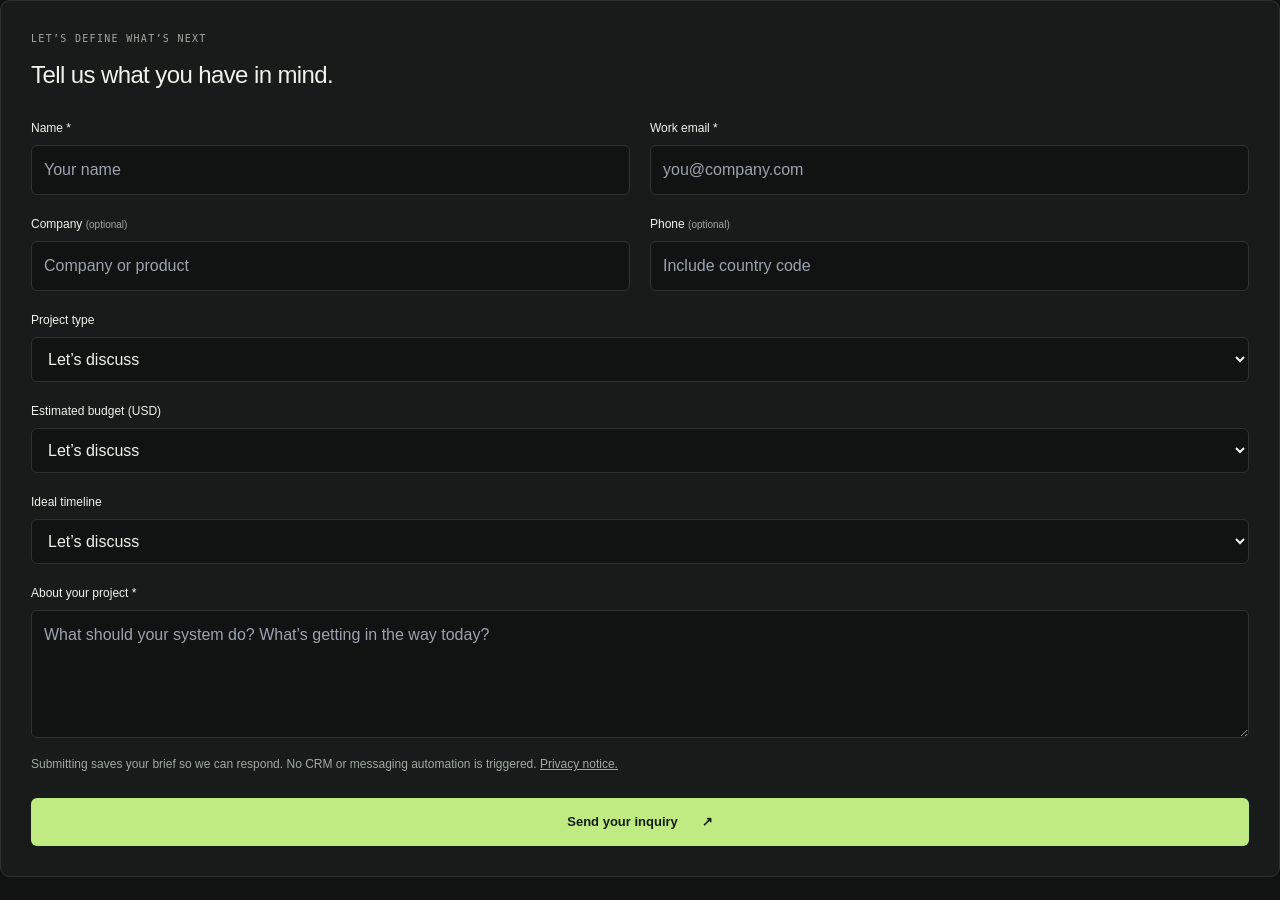
Scenario: retains the inquiry when the server fails
The image size is (1280, 900).
Type "Alex Example" into the field labelled "Name *" at (330,170), box left=31, top=145, right=630, bottom=195
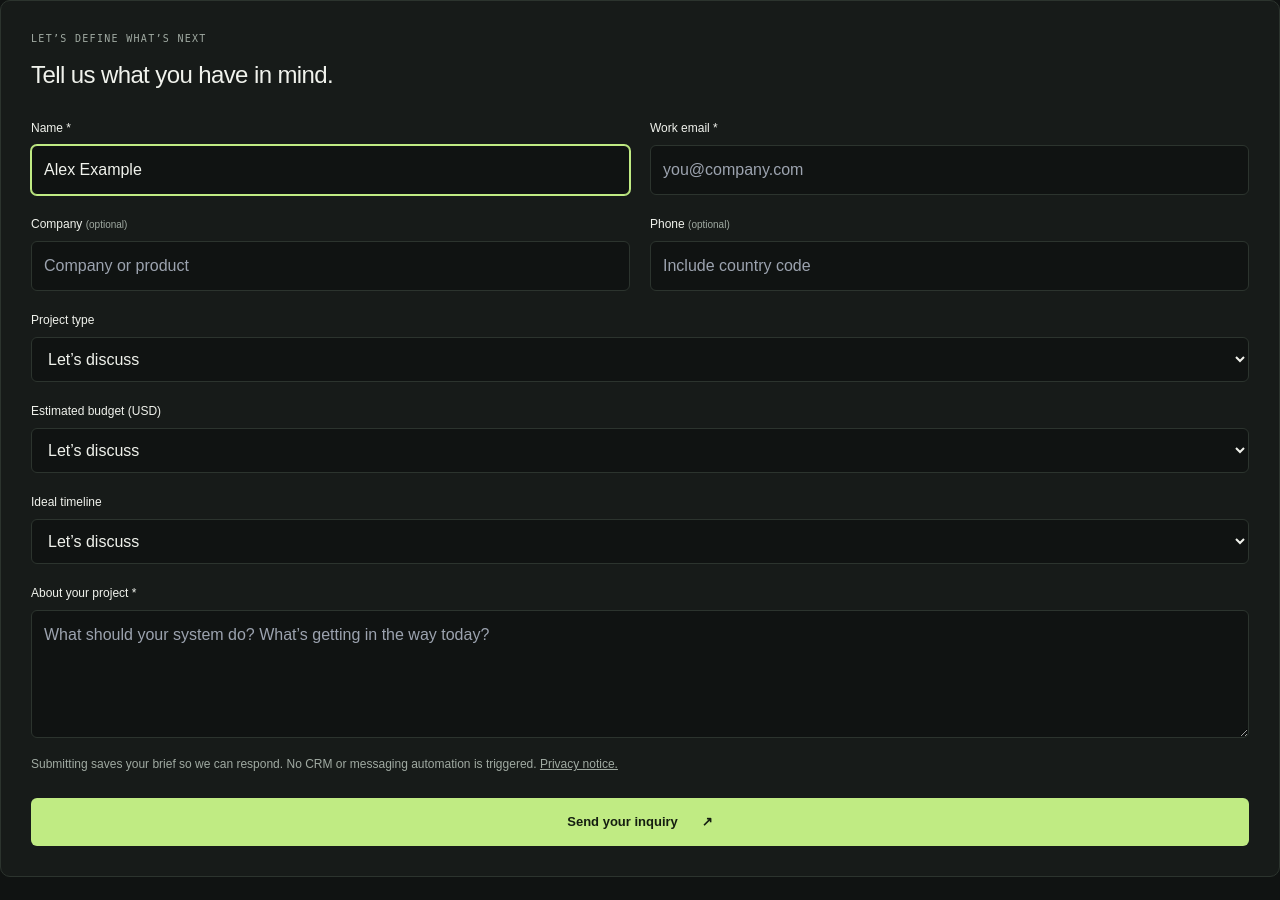
Type "alex@example.com" into the field labelled "Work email *" at (950,170), box left=650, top=145, right=1249, bottom=195
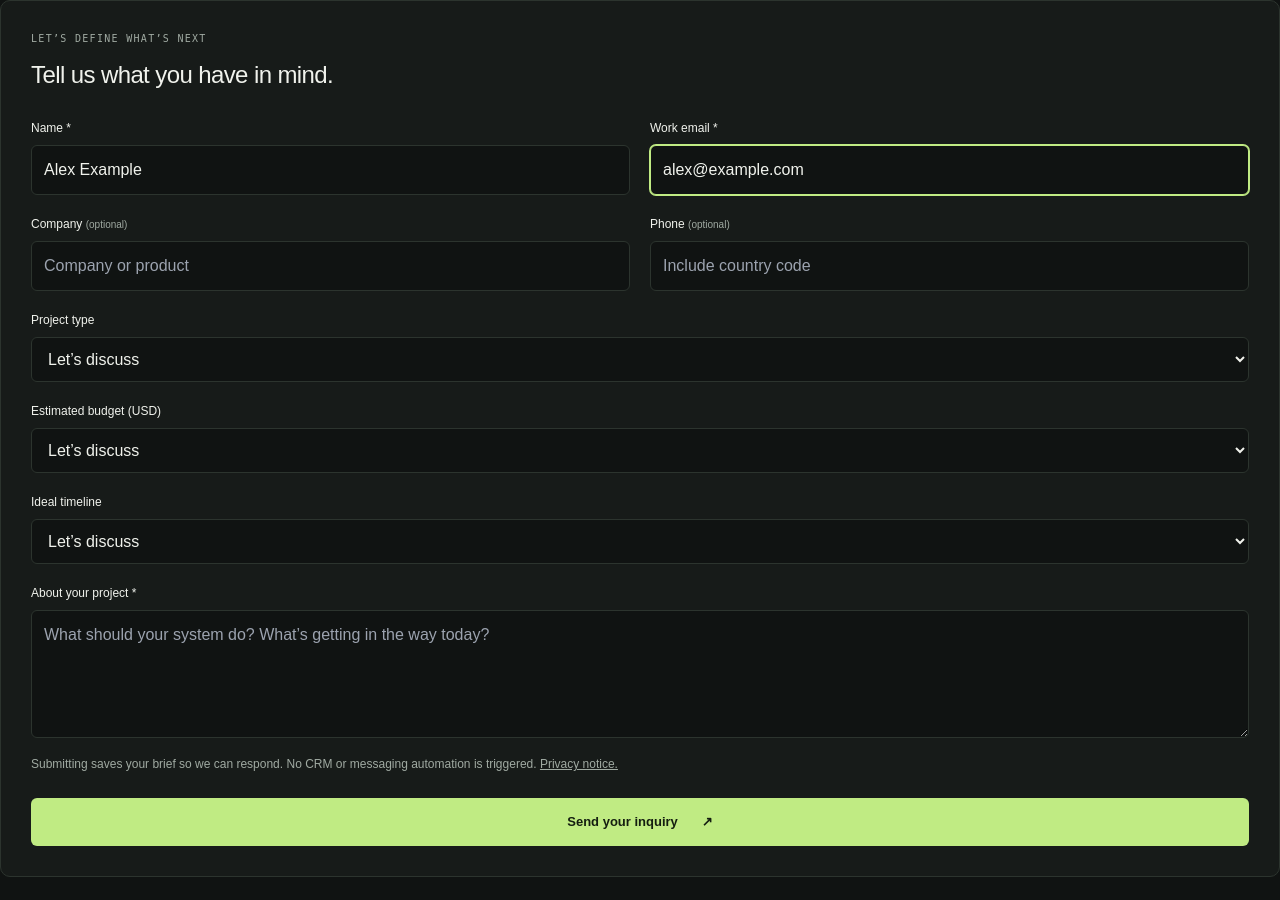
Type "We need a new website for our business." into the text box labelled "About your project *" at (640,674), box left=31, top=610, right=1249, bottom=738
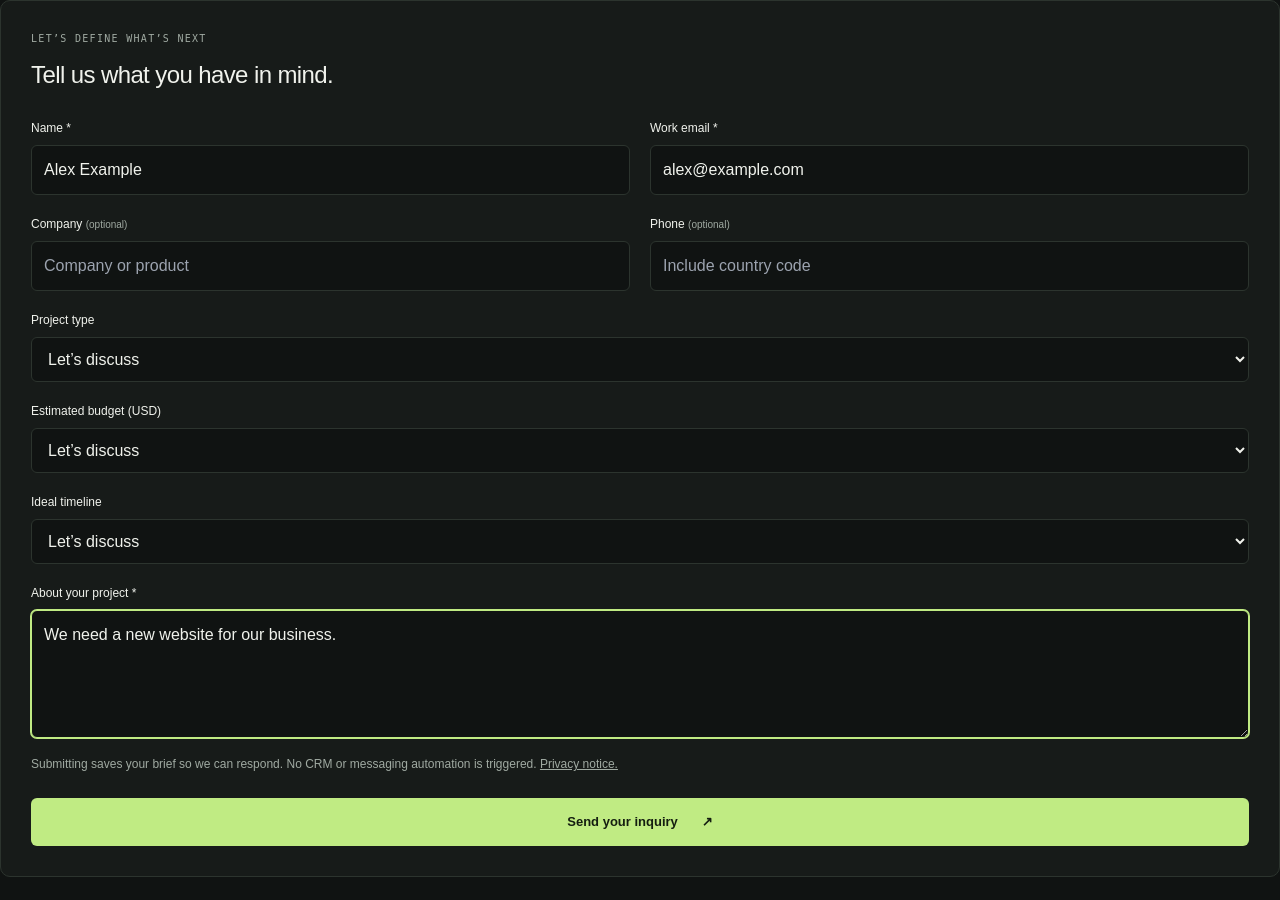
Click the button "Send your inquiry ↗" at (640,822), box left=31, top=798, right=1249, bottom=846
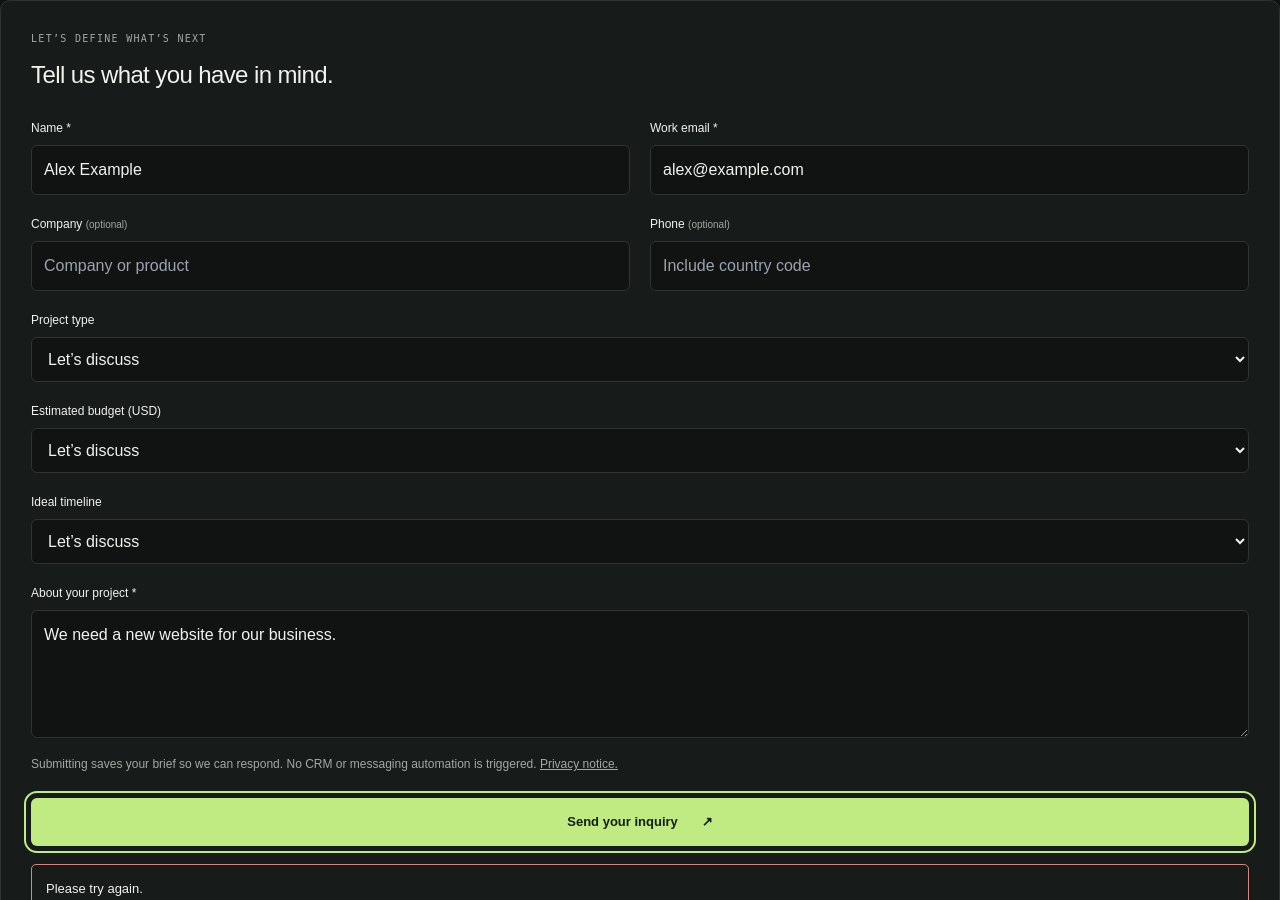
Result: the message reads "Please try again." at left=46, top=881, right=143, bottom=896
